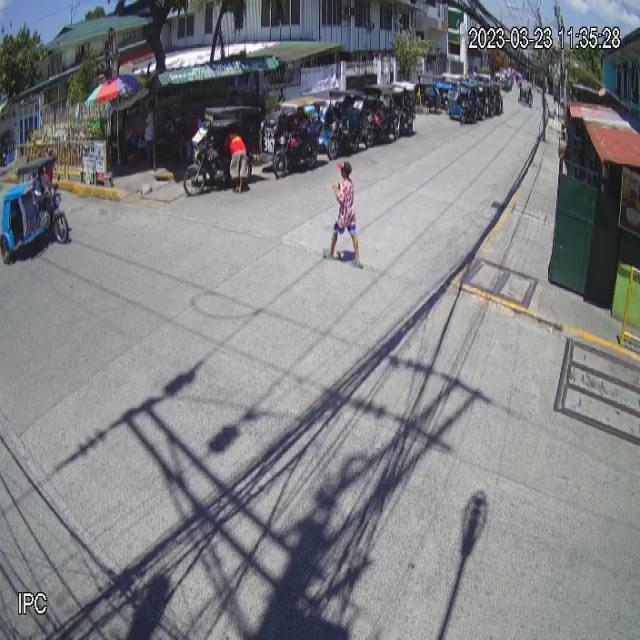Tricycle: (0, 155, 68, 264)
